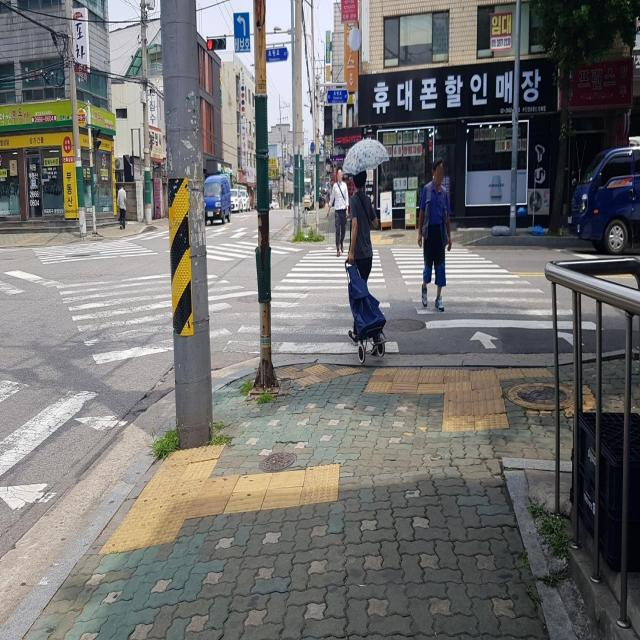횡단보도: (222, 246, 606, 354), (0, 378, 126, 518), (24, 242, 173, 354)
